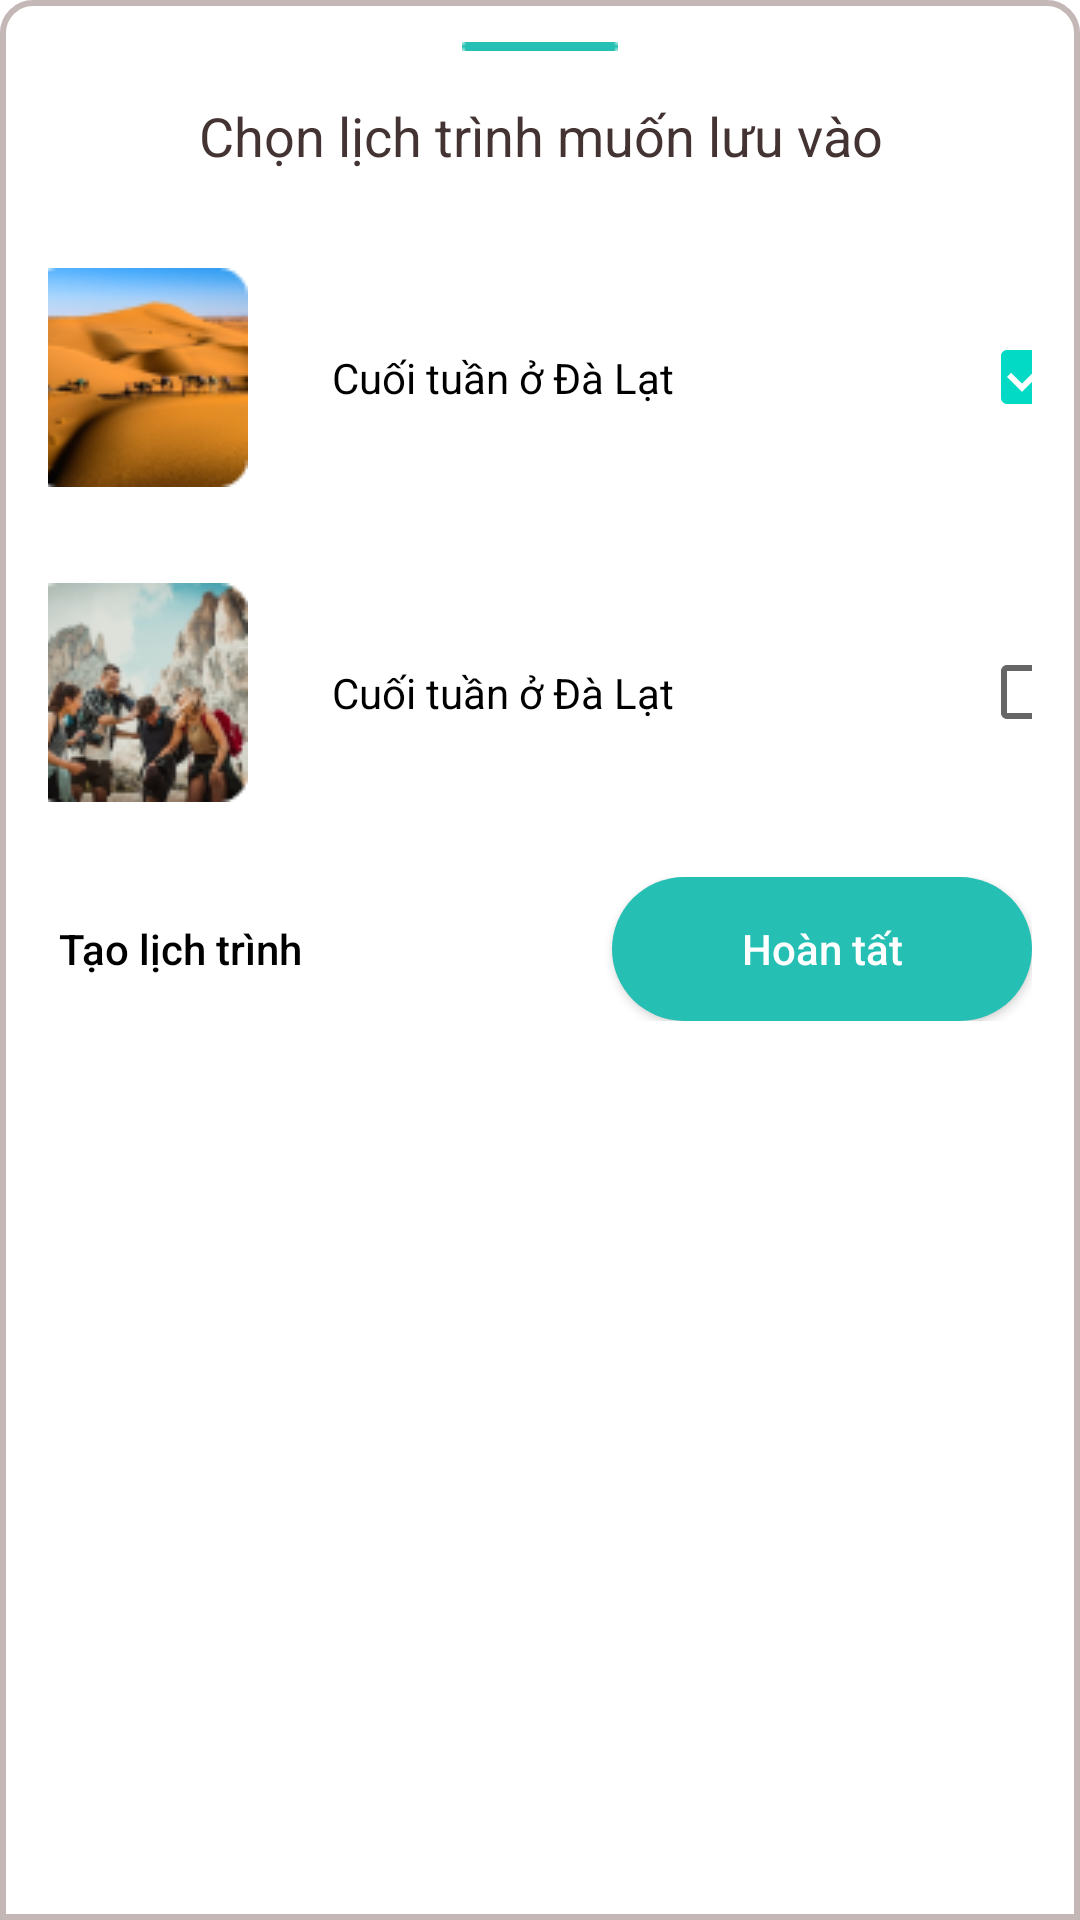

Icons on this 1080x1920 Android screen, each with its box as (x1, y1, x2, y2):
chonlichtrinh anh: (48, 268, 248, 487), (48, 583, 248, 802)
